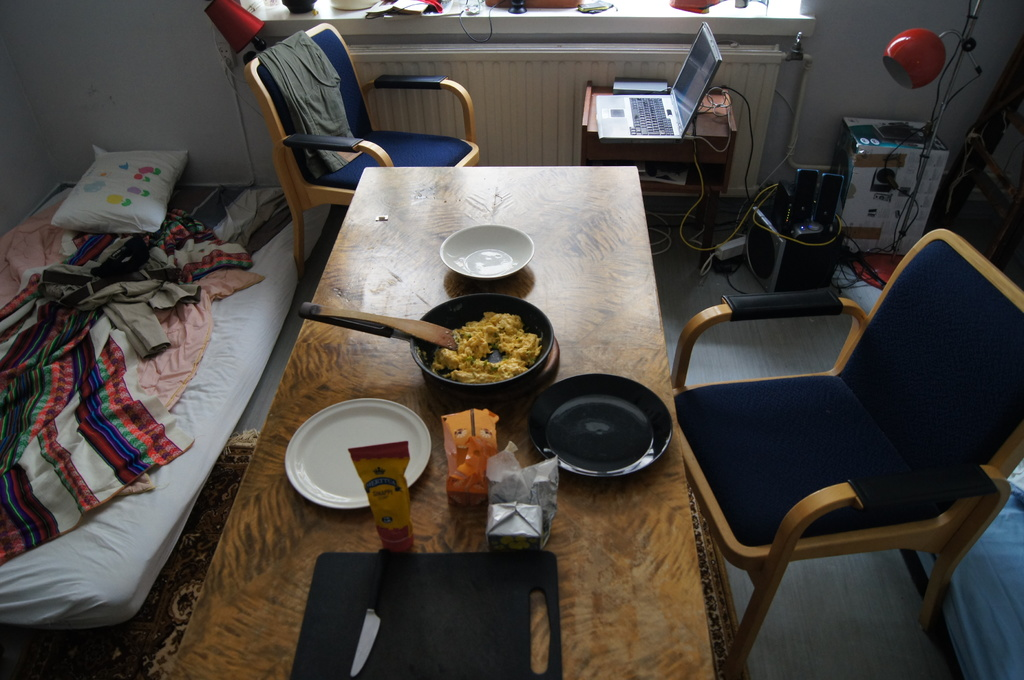plate: (438, 221, 539, 284)
